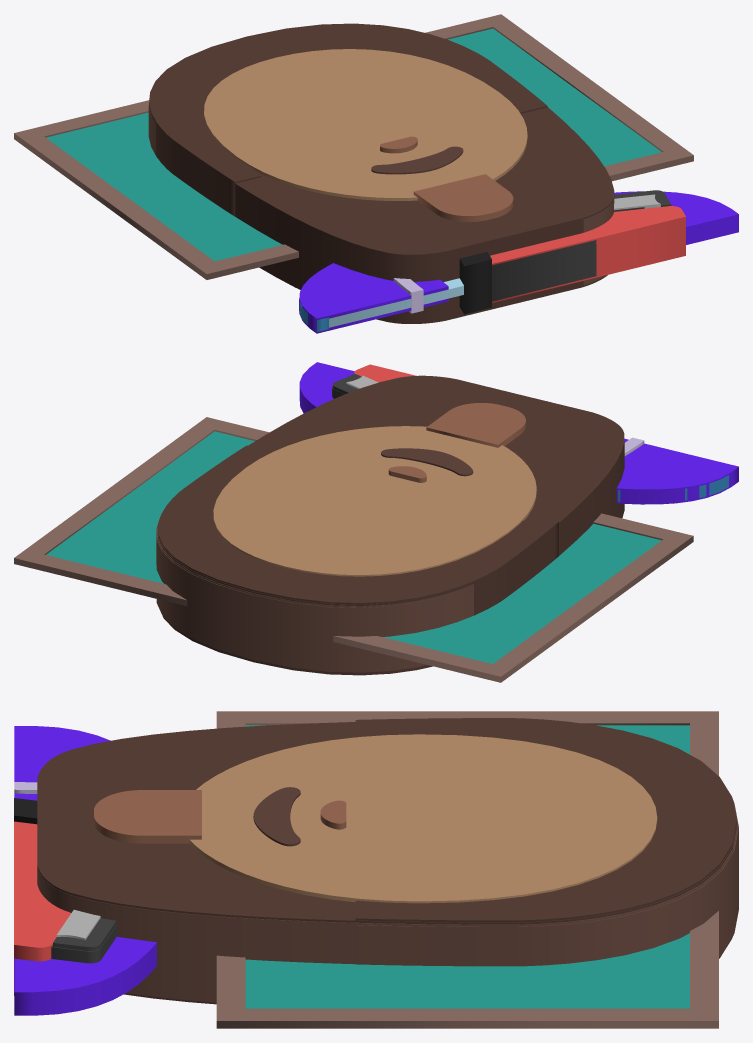
File: emoji_u1f469_1f3fd_200d_1f3eb.glb
The picture shows the model from 3 angles, top to bottom: view 1: azimuth 30°, elevation 25°; view 2: azimuth 150°, elevation 25°; view 3: azimuth 270°, elevation 25°; orthographic projection. The views are drawn at different scales.
Visible parts, largest first — view 1: emoji_u1f469_1f3fd_200d_1f3eb; view 2: emoji_u1f469_1f3fd_200d_1f3eb; view 3: emoji_u1f469_1f3fd_200d_1f3eb.
Part boxes in pixels (bbox=[...]): emoji_u1f469_1f3fd_200d_1f3eb: bbox=[14, 14, 738, 333]; emoji_u1f469_1f3fd_200d_1f3eb: bbox=[14, 362, 738, 682]; emoji_u1f469_1f3fd_200d_1f3eb: bbox=[14, 711, 738, 1028].
Bounding box in the file's own units: 0.0338 × 0.0056 × 0.0335.
